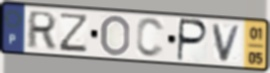C: (135, 17, 167, 60)
O: (99, 14, 132, 58)
P: (176, 17, 210, 64)
R: (26, 10, 59, 50)
V: (211, 23, 244, 64)
Z: (57, 11, 90, 53)
